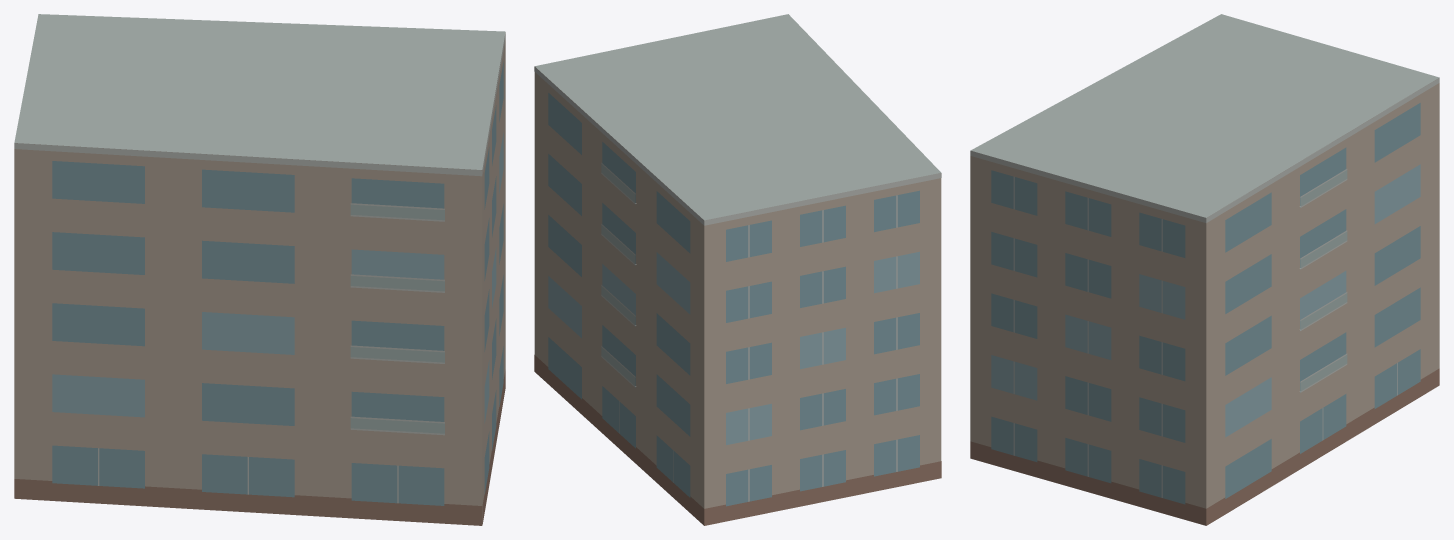
Rendered from survey-upis-32816052.glb.
3 renders of one model, left to right at view 1: azimuth 30°, elevation 25°; view 2: azimuth 150°, elevation 25°; view 3: azimuth 270°, elevation 25°, orthographic. The views are drawn at different scales.
Parts seen in each view (by area): view 1: survey-upis-32816052.tmp; view 2: survey-upis-32816052.tmp; view 3: survey-upis-32816052.tmp.
Boxes of the visible parts, x1=… form: survey-upis-32816052.tmp: x1=14, y1=14, x2=505, y2=525; survey-upis-32816052.tmp: x1=534, y1=14, x2=941, y2=525; survey-upis-32816052.tmp: x1=970, y1=14, x2=1439, y2=525.
Bounding box in the file's own units: 20.1 × 14.15 × 19.54.
